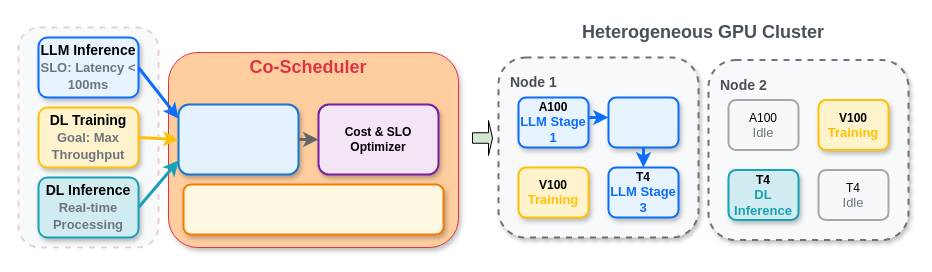
This 932x272 diagram has some shape labels left out. Each missing label, with the centre of its shape:
"Performance Predictor" goes at (239,140).
"Real-time Monitor & Adjuster" goes at (314,210).
"V100 LLM Stage 2" goes at (644,123).
